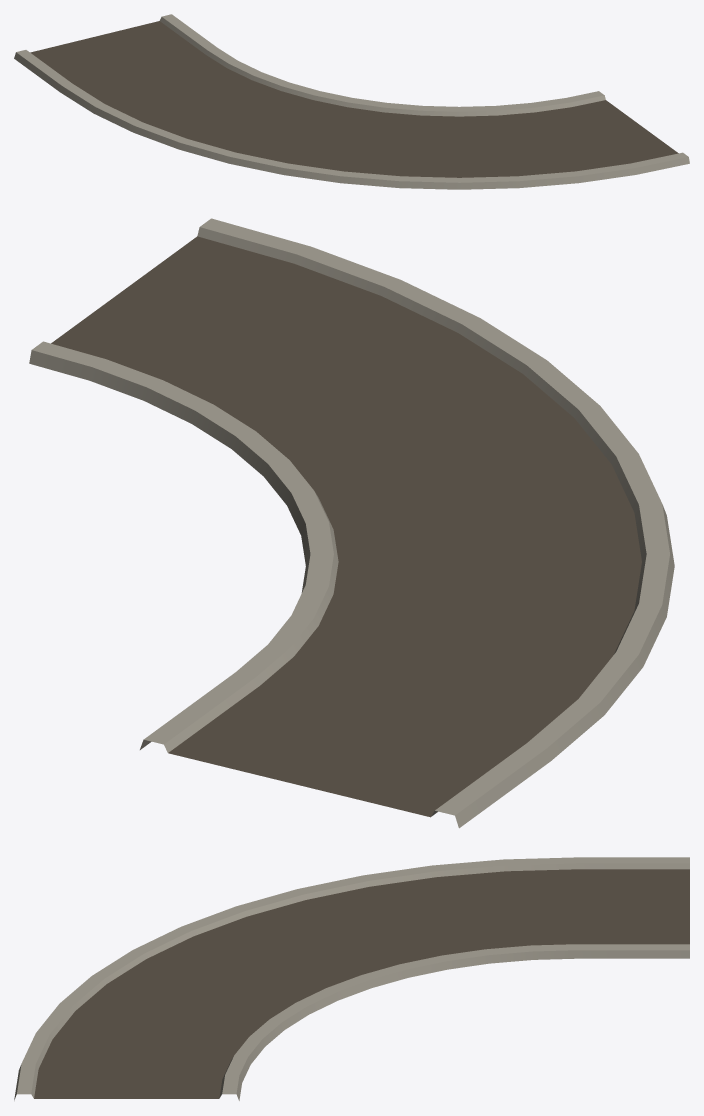
File: ParkRoad_2_B.fbx
The picture shows the model from 3 angles, top to bottom: view 1: azimuth 30°, elevation 25°; view 2: azimuth 150°, elevation 25°; view 3: azimuth 270°, elevation 25°; orthographic projection. The views are drawn at different scales.
Visible parts, largest first — view 1: ParkRoad_2_B; view 2: ParkRoad_2_B; view 3: ParkRoad_2_B.
Part boxes in pixels (x1=…): ParkRoad_2_B: x1=14, y1=14, x2=689, y2=189; ParkRoad_2_B: x1=29, y1=218, x2=674, y2=828; ParkRoad_2_B: x1=14, y1=857, x2=689, y2=1100.
Size of the model in its own units: 500 by 7.16 by 600.
